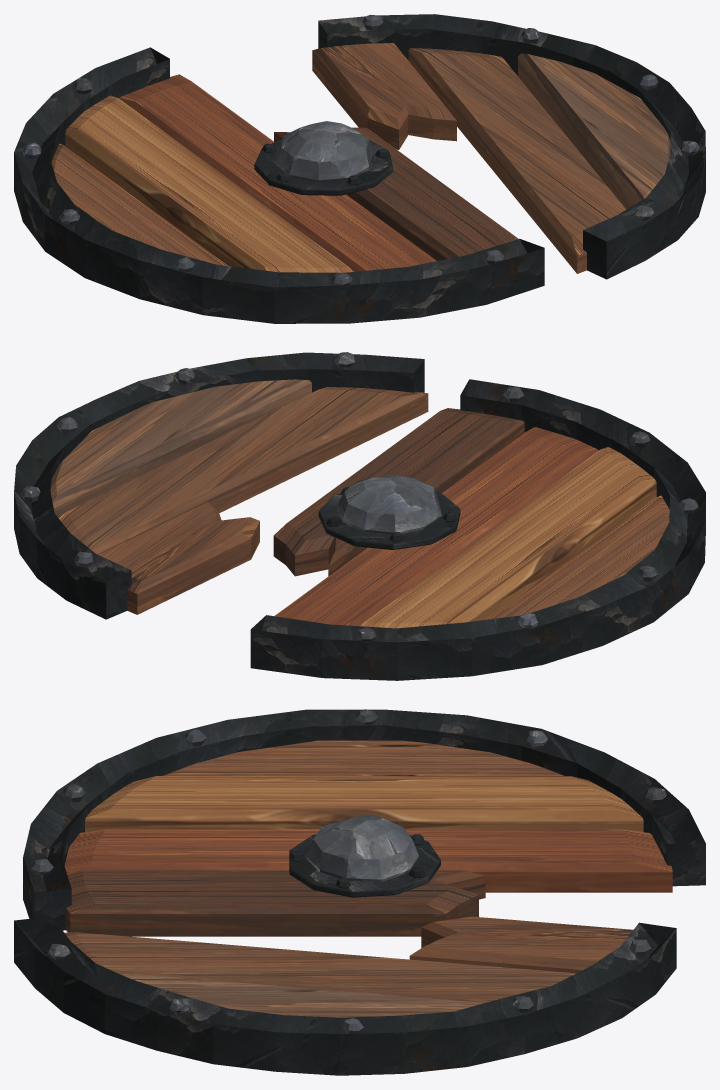
Rendered from junk_shield_iron.glb.
The picture shows the model from 3 angles, top to bottom: view 1: azimuth 30°, elevation 25°; view 2: azimuth 150°, elevation 25°; view 3: azimuth 270°, elevation 25°; orthographic projection. The views are drawn at different scales.
Visible parts, largest first — view 1: model; view 2: model; view 3: model.
Part boxes in pixels (x1,y1,x2,y2): model: (14,14,705,323); model: (14,352,705,680); model: (14,709,705,1075).
Bounding box in the file's own units: 0.7424 × 0.0766 × 0.6681.
Materials: 10 (10 with a texture image).
